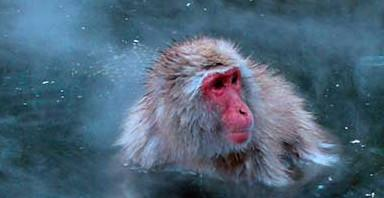monkey: (116, 36, 344, 191)
